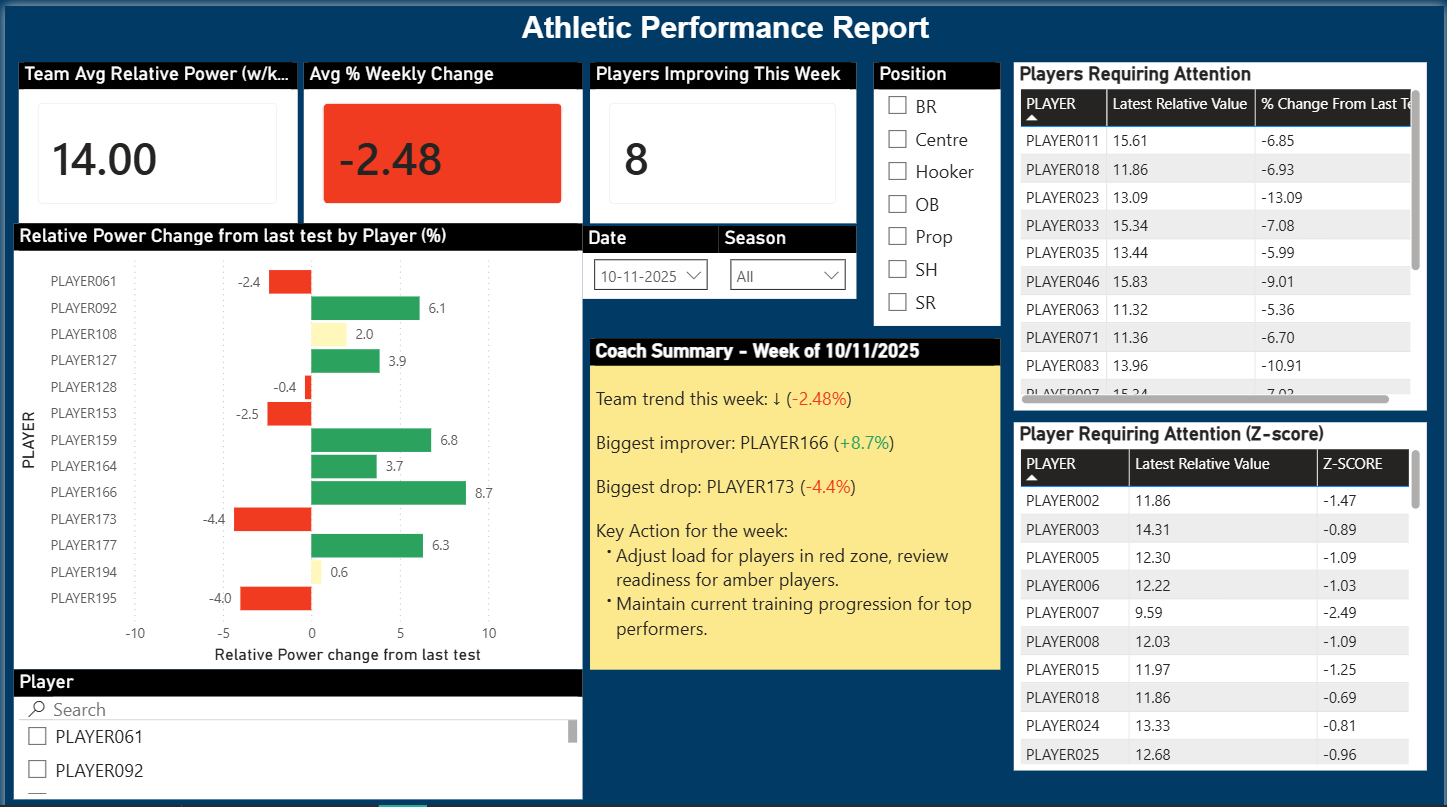

Layout of this report page (visuals, bound fields, positions):
{"tool":"powerbi","page":{"name":"Weekly Coach Report","canvas":[1280,720],"ordinal":1},"visuals":[{"type":"textbox","box":[382.8,0,514.1,50.3],"z":0},{"type":"slicer","title":"Position","fields":{"Values":["Peak Power Dummy.POSITION"]},"box":[771.8,50.3,112.9,234.4],"z":1000},{"type":"slicer","title":"Date","fields":{"Values":["Peak Power Dummy.DATE"]},"box":[512.9,195.1,121.5,65],"z":2000},{"type":"slicer","title":"Season","fields":{"Values":["Peak Power Dummy.Season.1"]},"box":[634.4,195.1,122.7,65],"z":3000},{"type":"cardVisual","title":"Team Avg Relative Power (w/kg)","fields":{"Data":["Avg(Peak Power Dummy.RELATIVE (w / kg))"]},"box":[12.3,50.3,247.9,143.6],"z":4000},{"type":"cardVisual","title":"Avg % Weekly Change","fields":{"Data":["Peak Power Dummy.% Change From Last Test"]},"box":[265,50.3,247.9,143.6],"z":5000},{"type":"cardVisual","title":"Players Improving This Week","fields":{"Data":["Peak Power Dummy.Count Improving Players"]},"box":[520.2,50.3,236.8,143.6],"z":6000},{"type":"slicer","title":"Player","fields":{"Values":["Peak Power Dummy.PLAYER"]},"box":[7.4,590.2,505.5,115.3],"z":7000},{"type":"clusteredBarChart","title":"Relative Power Change from last test by Player (%)","fields":{"Category":["Peak Power Dummy.PLAYER","Peak Power Dummy.DATE"],"Y":["Peak Power Dummy.% Change From Last Test"]},"box":[7.4,193.9,505.5,396.3],"z":8000},{"type":"tableEx","title":"Players Requiring Attention","fields":{"Values":["Peak Power Dummy.PLAYER","Peak Power Dummy.Latest Relative Value","Peak Power Dummy.% Change From Last Test"]},"box":[896.9,50.3,366.9,309.2],"z":9000},{"type":"tableEx","title":"Player Requiring Attention (Z-score)","fields":{"Values":["Peak Power Dummy.PLAYER","Peak Power Dummy.Latest Relative Value","Avg(Peak Power Dummy.Z-SCORE)"]},"box":[896.9,370.6,366.9,309.2],"z":10000},{"type":"textbox","title":"Coach Summary - Week of 10/11/2025","box":[520.2,295.7,364.4,294.5],"z":11000}]}

Visuals, with their boxes in screenshot pixels (x1, y1, x2, y2), scaled from the page's 1280x720 canvas onto the 1447x807 screenshot:
textbox: [433, 0, 1014, 56]
"Position" slicer: [872, 56, 1000, 319]
"Date" slicer: [580, 219, 717, 292]
"Season" slicer: [717, 219, 856, 292]
"Team Avg Relative Power (w/kg)" cardVisual: [14, 56, 294, 217]
"Avg % Weekly Change" cardVisual: [300, 56, 580, 217]
"Players Improving This Week" cardVisual: [588, 56, 856, 217]
"Player" slicer: [8, 662, 580, 791]
"Relative Power Change from last test by Player (%)" clusteredBarChart: [8, 217, 580, 662]
"Players Requiring Attention" tableEx: [1014, 56, 1429, 403]
"Player Requiring Attention (Z-score)" tableEx: [1014, 415, 1429, 762]
"Coach Summary - Week of 10/11/2025" textbox: [588, 331, 1000, 662]
